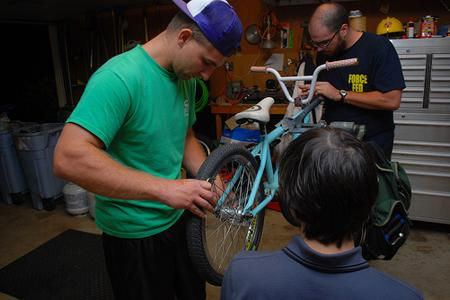person: (55, 1, 244, 300)
